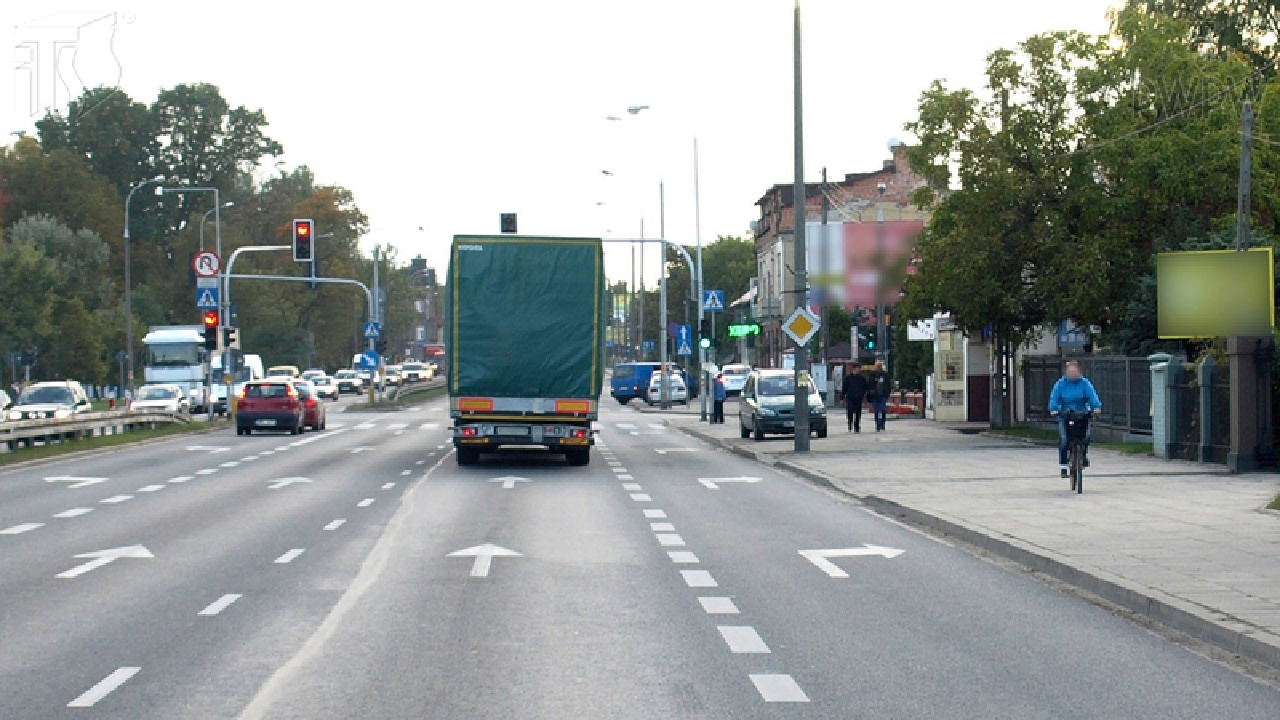D1: (781, 306, 821, 347)
Green: (701, 320, 710, 349)
Red: (296, 221, 310, 259), (205, 310, 216, 348)
